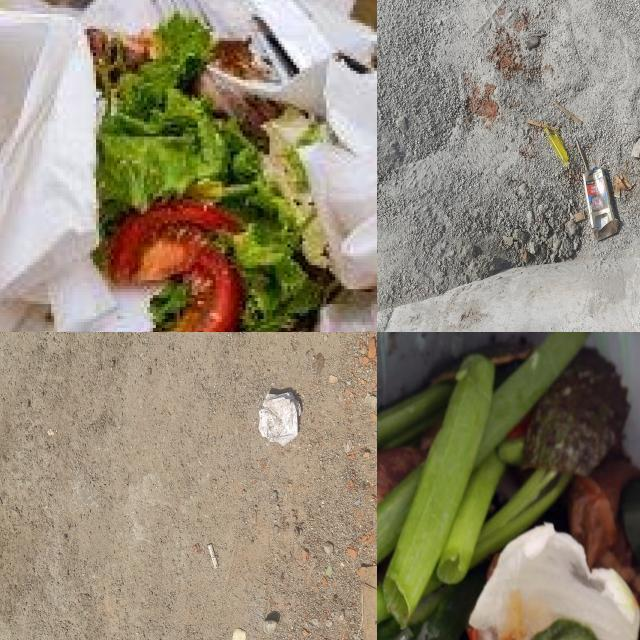Background: (0, 332, 377, 640), (377, 0, 640, 332)
Cig_bud: (207, 544, 218, 568)
Cig_pack: (583, 169, 619, 241)
Garbage: (377, 332, 640, 640)
Plastic: (544, 128, 570, 167)
